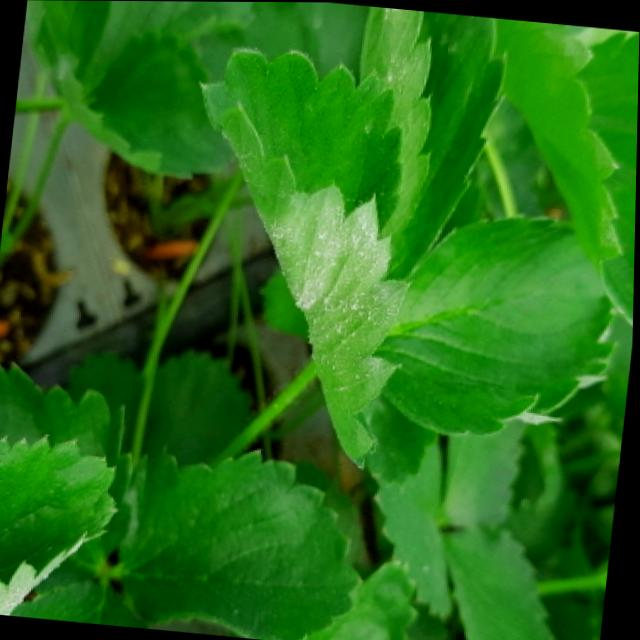Powdery Mildew Leaf: (198, 46, 412, 469), (359, 5, 509, 282), (0, 434, 120, 615)
